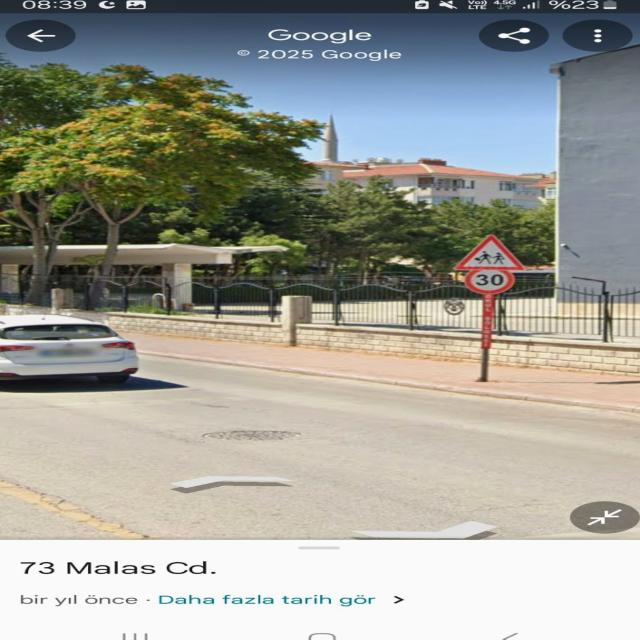okul_gecidi: (452, 233, 527, 270)
